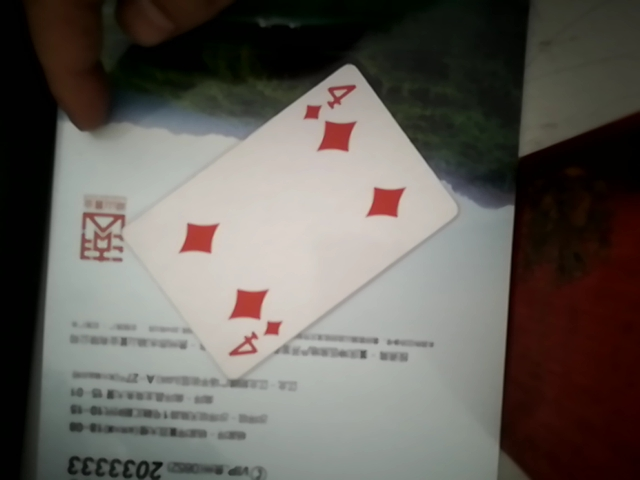fk 4: (105, 55, 462, 374)
